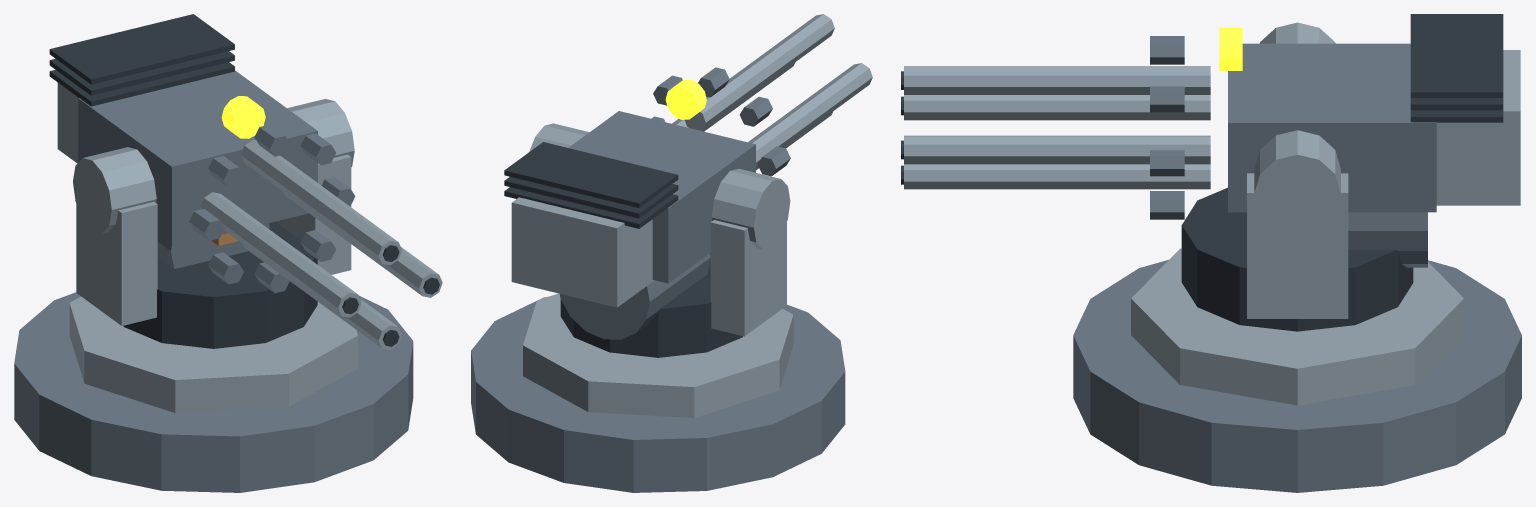
The model's file is rotor_t1.glb.
3 views of the same model, side by side, from view 1: azimuth 30°, elevation 25°; view 2: azimuth 150°, elevation 25°; view 3: azimuth 270°, elevation 25° (orthographic). The views are drawn at different scales.
Visible parts, largest first — view 1: Foundation, Receiver, Base upper armor, Rotary barrel (×4), Yaw bearing, Rear radiator (×3), Elevation fork (×2), Trunnion (×2), Cage fastener (×8), Ammunition drum, Rear equipment, Tracking lens; view 2: Foundation, Base upper armor, Receiver, Rear equipment, Rear radiator (×3), Rotary barrel (×2), Elevation fork, Yaw bearing, Trunnion (×2), Ammunition drum, Cage fastener (×3), Tracking lens; view 3: Foundation, Rotary barrel (×4), Base upper armor, Receiver, Yaw bearing, Elevation fork, Rear radiator (×3), Trunnion (×2), Rear equipment, Cage fastener (×4), Ammunition drum, Tracking lens.
Boxes of the visible parts, box(x1,y1,x2,y2) form: Foundation: box(14, 292, 413, 492); Receiver: box(78, 70, 317, 246); Base upper armor: box(69, 296, 357, 412); Rotary barrel (×4): box(200, 140, 442, 349); Yaw bearing: box(123, 221, 317, 348); Rear radiator (×3): box(49, 14, 234, 106); Elevation fork (×2): box(76, 154, 351, 325); Trunnion (×2): box(73, 99, 354, 233); Cage fastener (×8): box(189, 124, 355, 293); Ammunition drum: box(157, 223, 269, 268); Rear equipment: box(57, 82, 78, 163); Tracking lens: box(221, 96, 265, 138); Foundation: box(471, 296, 845, 492); Base upper armor: box(523, 293, 793, 417); Receiver: box(568, 111, 755, 283); Rear equipment: box(511, 197, 654, 307); Rear radiator (×3): box(504, 142, 678, 228); Rotary barrel (×2): box(684, 14, 872, 167); Elevation fork: box(710, 220, 786, 336); Yaw bearing: box(560, 253, 742, 357); Trunnion (×2): box(529, 123, 790, 249); Ammunition drum: box(559, 253, 710, 339); Cage fastener (×3): box(698, 67, 790, 176); Tracking lens: box(665, 79, 706, 119); Foundation: box(1073, 259, 1521, 492); Rotary barrel (×4): box(904, 66, 1210, 189); Base upper armor: box(1131, 248, 1463, 405); Receiver: box(1228, 43, 1436, 212); Yaw bearing: box(1181, 187, 1413, 331); Elevation fork: box(1247, 173, 1348, 318); Rear radiator (×3): box(1410, 14, 1503, 122); Trunnion (×2): box(1254, 22, 1340, 233); Rear equipment: box(1436, 50, 1520, 205); Cage fastener (×4): box(1150, 39, 1184, 219); Ammunition drum: box(1348, 212, 1427, 267); Tracking lens: box(1219, 27, 1242, 70).
Bounding box in the file's own units: 1.55 × 1.41 × 2.14.
